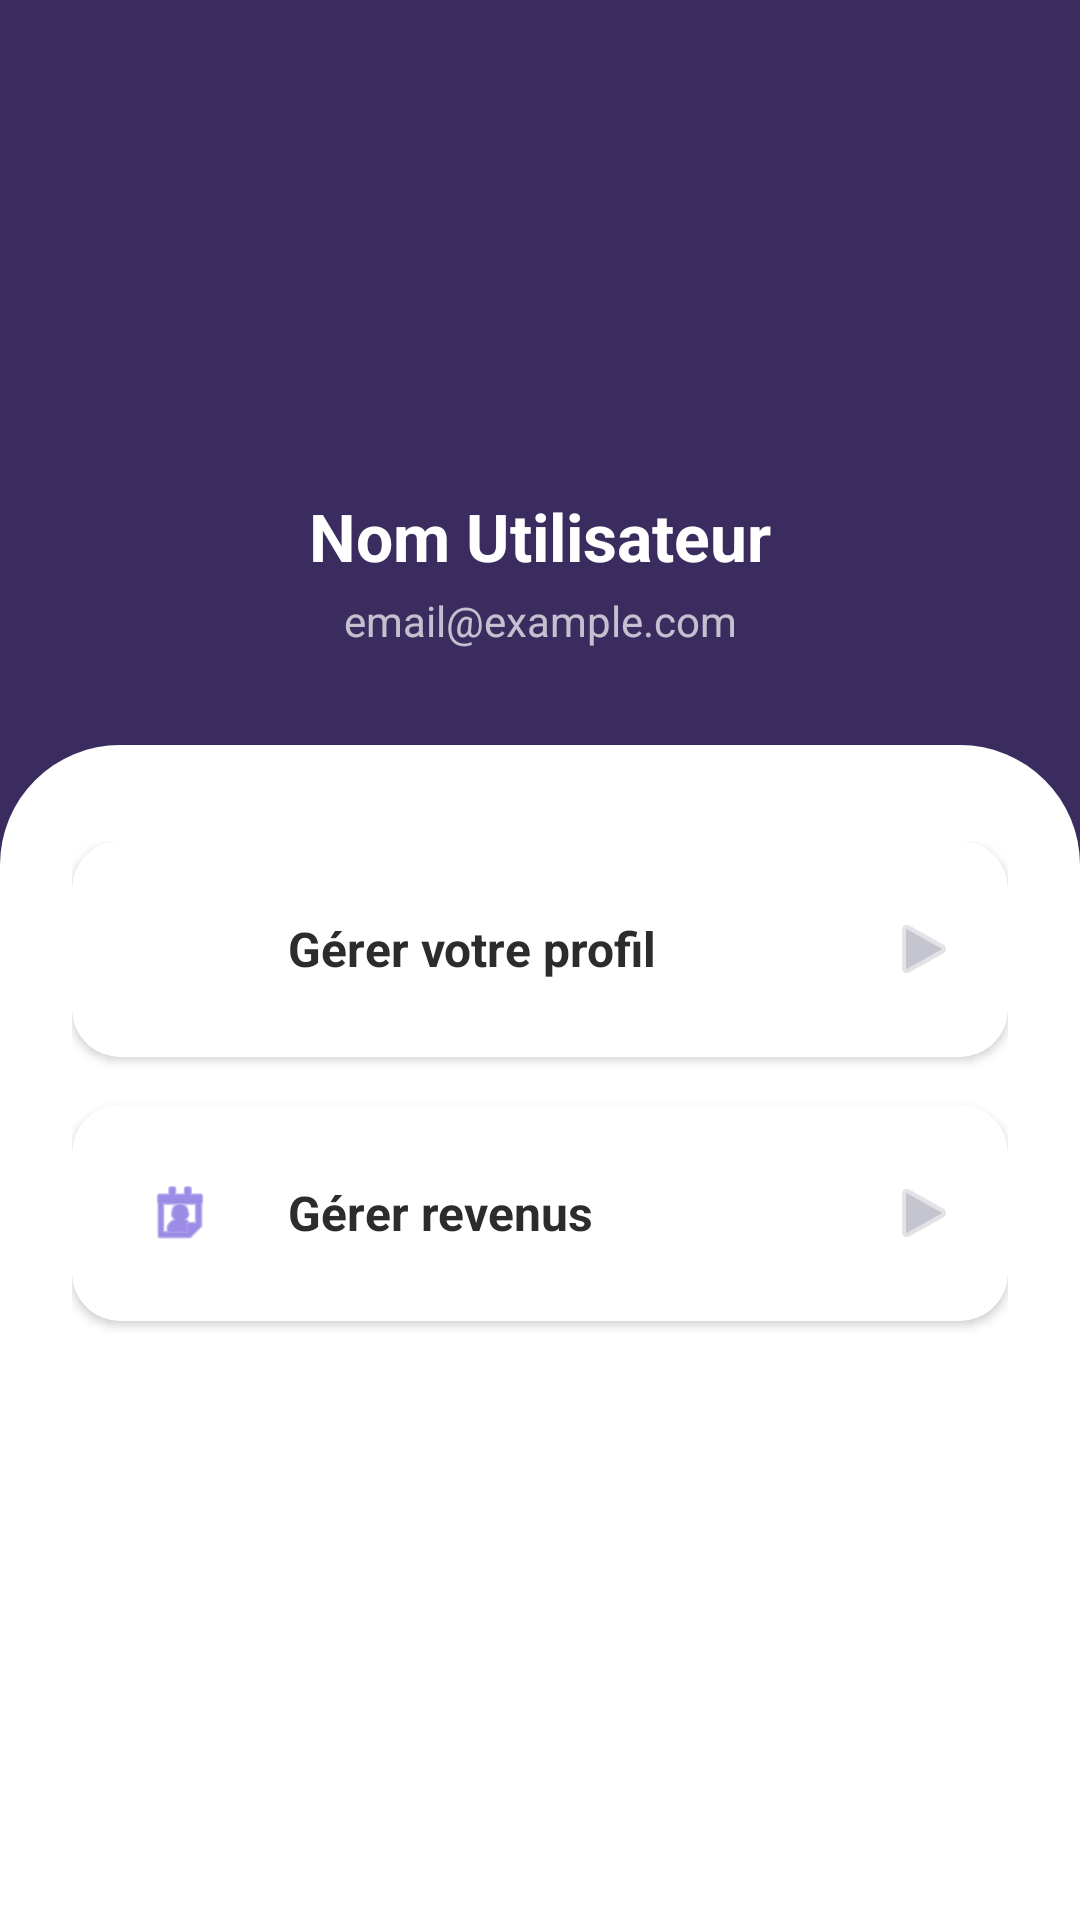

Where icons sit on this 1080px×1920px app screen, as (x1, y1, x2, y2):
calendar: (157, 1186, 203, 1239)
play: (902, 925, 945, 973), (902, 1189, 945, 1237)
